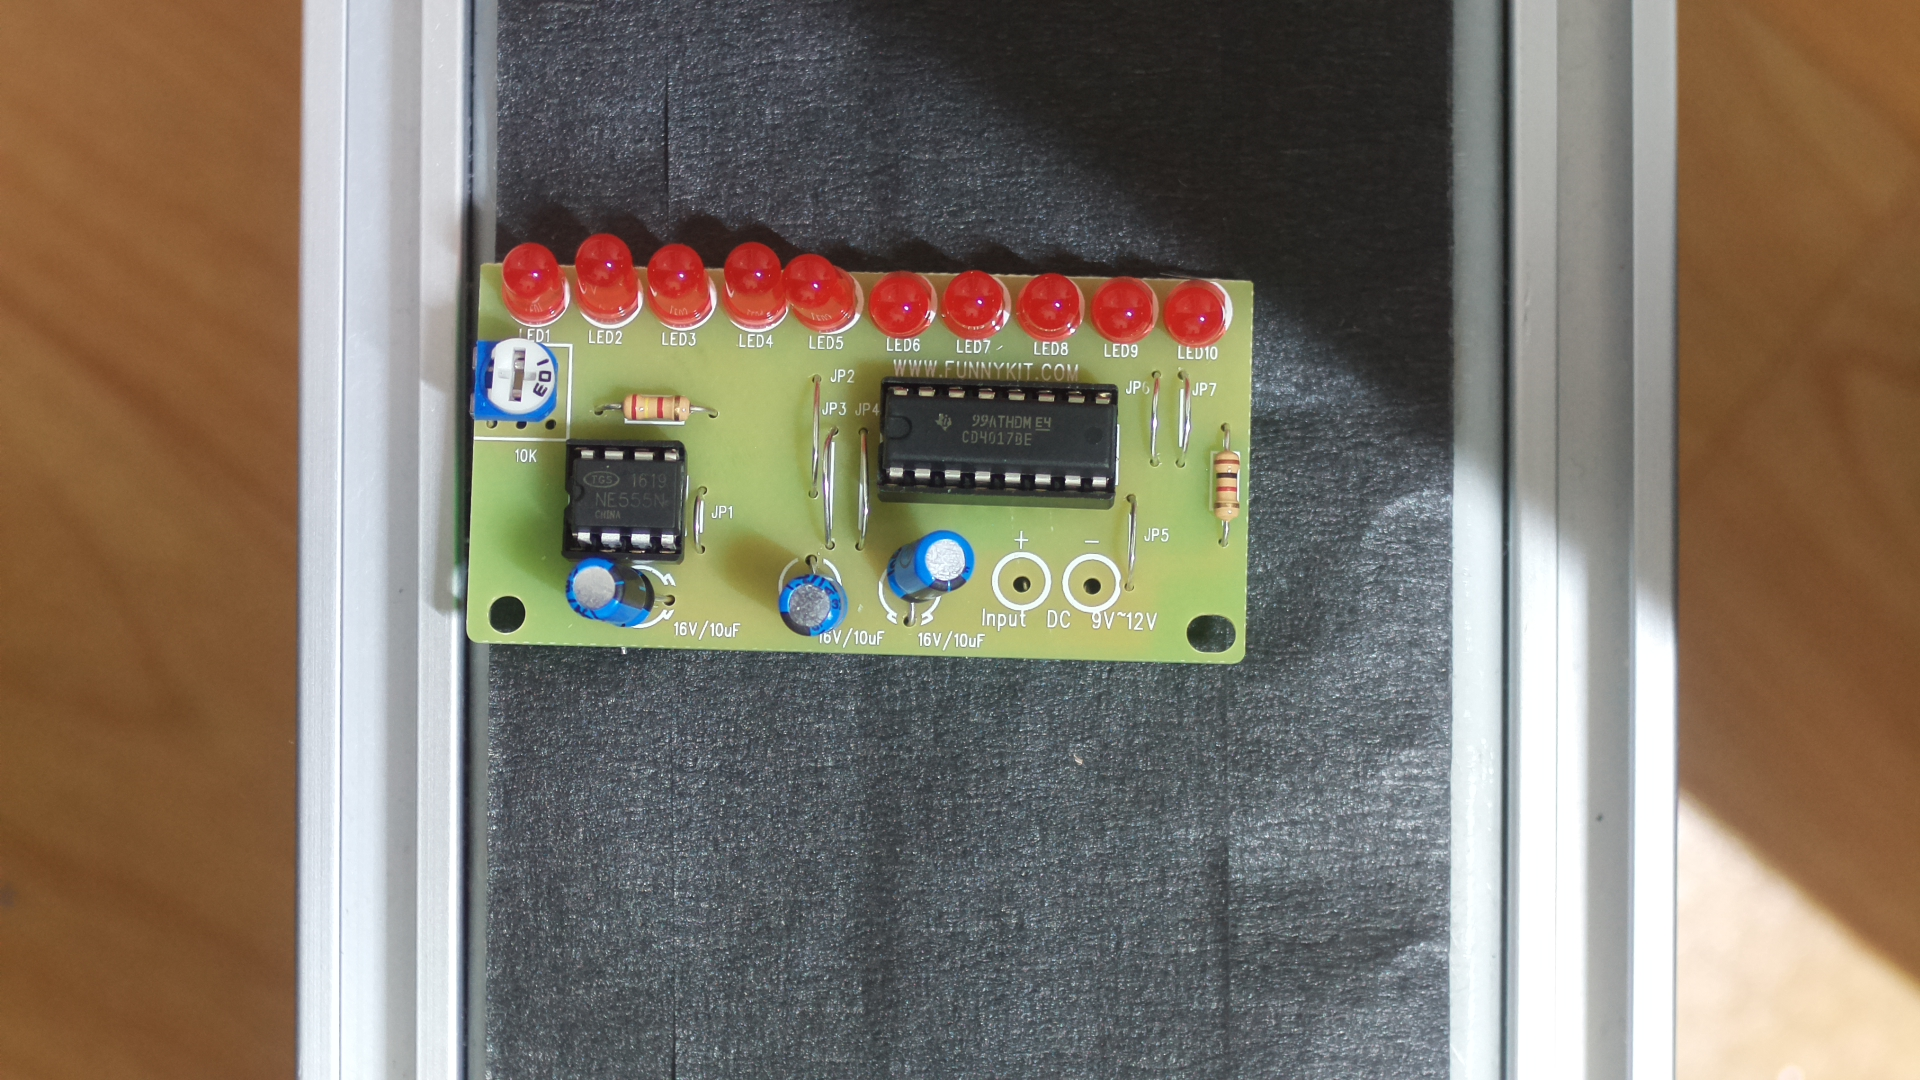B_Normal: (450, 236, 1274, 686)
